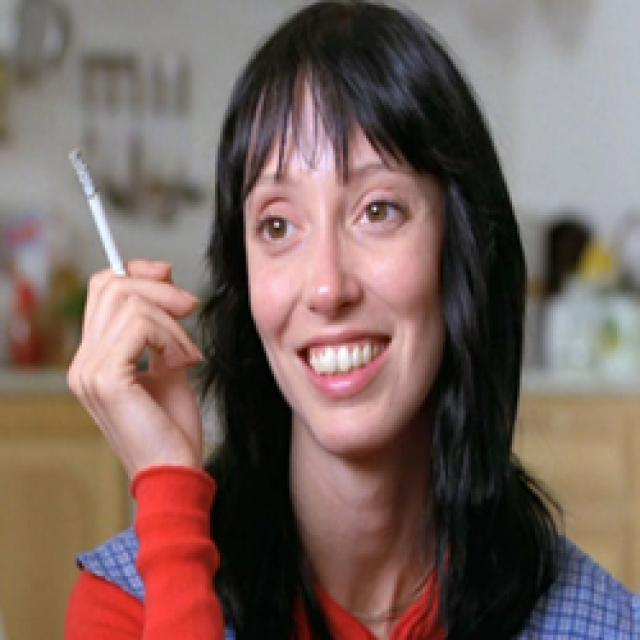Smooking: (63, 145, 143, 288)
